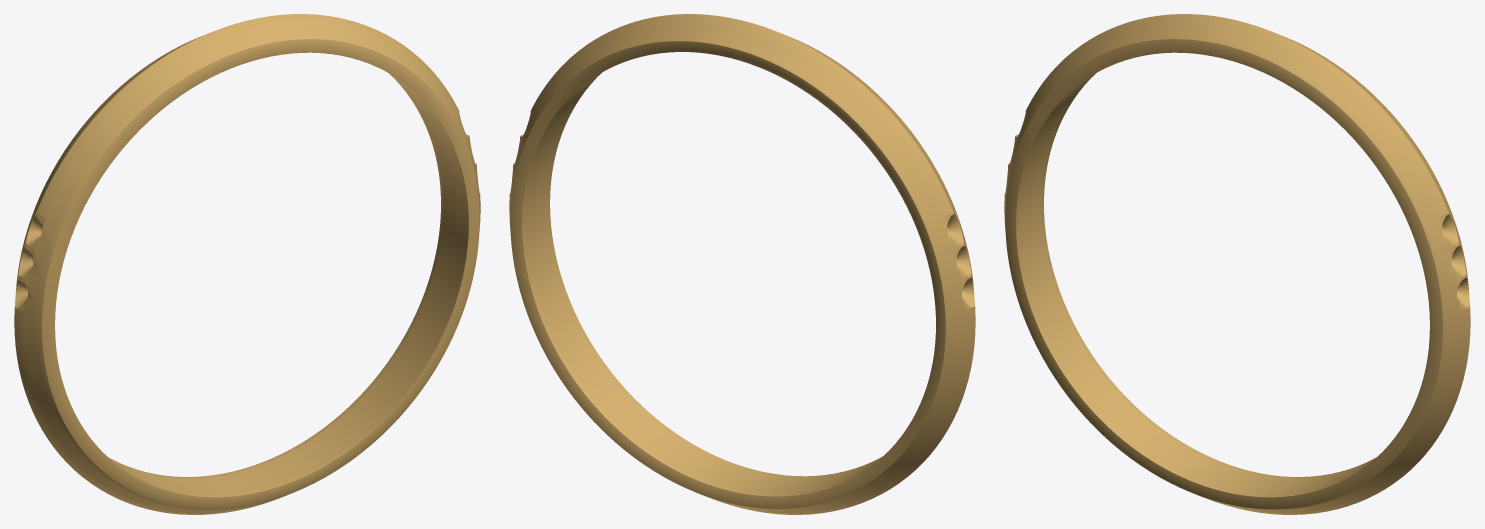
The model's file is knife-edge-micro-pave-multi.glb.
3 renders of one model, left to right at view 1: azimuth 30°, elevation 25°; view 2: azimuth 150°, elevation 25°; view 3: azimuth 330°, elevation 25°, orthographic.
Visible parts, largest first — view 1: Band; view 2: Band; view 3: Band.
Boxes of the visible parts, x1,y1,x2,y2 form: Band: (14, 14, 480, 514); Band: (509, 14, 975, 514); Band: (1004, 14, 1470, 514).
Bounding box in the file's own units: 19.6 × 19.6 × 2.1.
